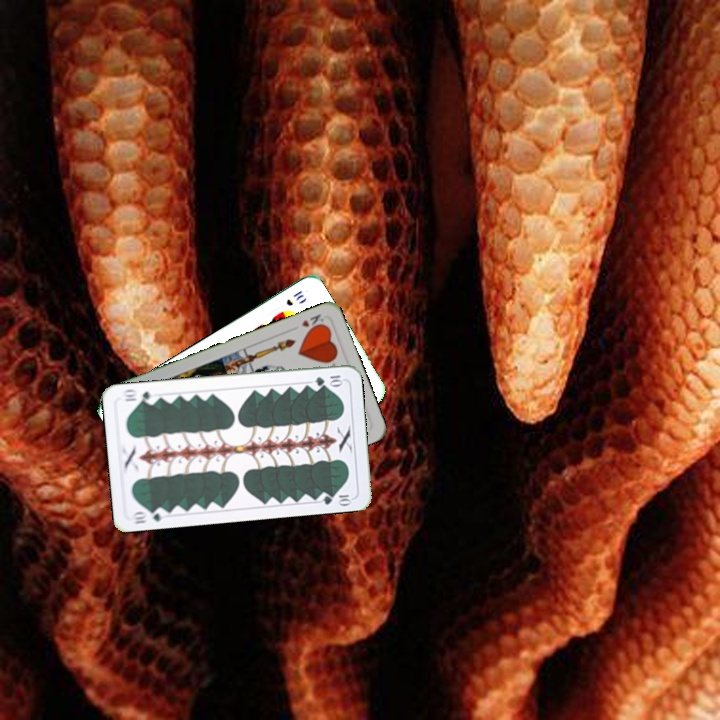G10: (128, 504, 168, 526), (311, 371, 345, 388)
HK: (297, 310, 327, 334)
S10: (282, 286, 307, 308)
